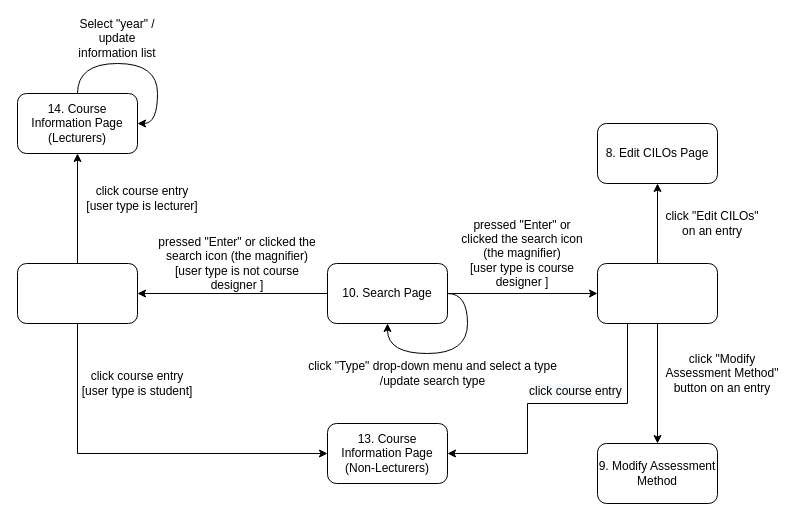
The diagram is 805 pixels wide and 521 high, and some of its shapes have lost their labels. Each missing label, with the centre of its shape:
11. Search Results Page (Course Designer): point (657, 293)
12. Search Results Page (Non-Course designer): point (77, 293)
